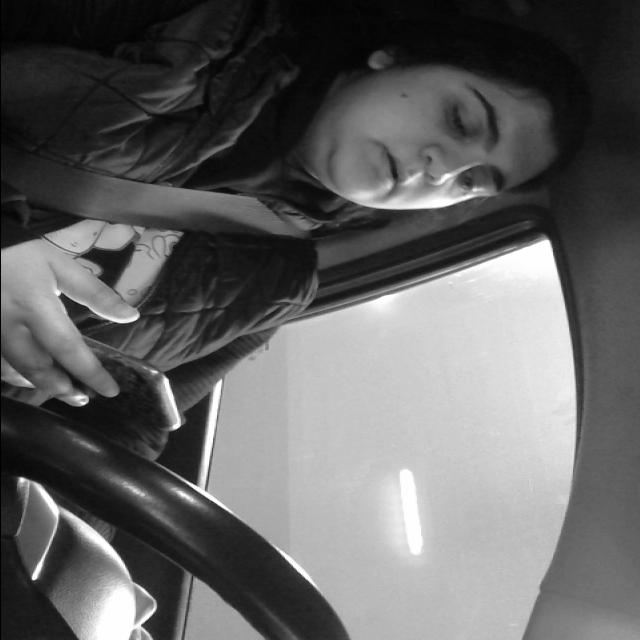mobile use: (32, 339, 201, 432)
